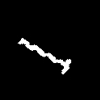half_double_crochet: (19, 38, 70, 73)
